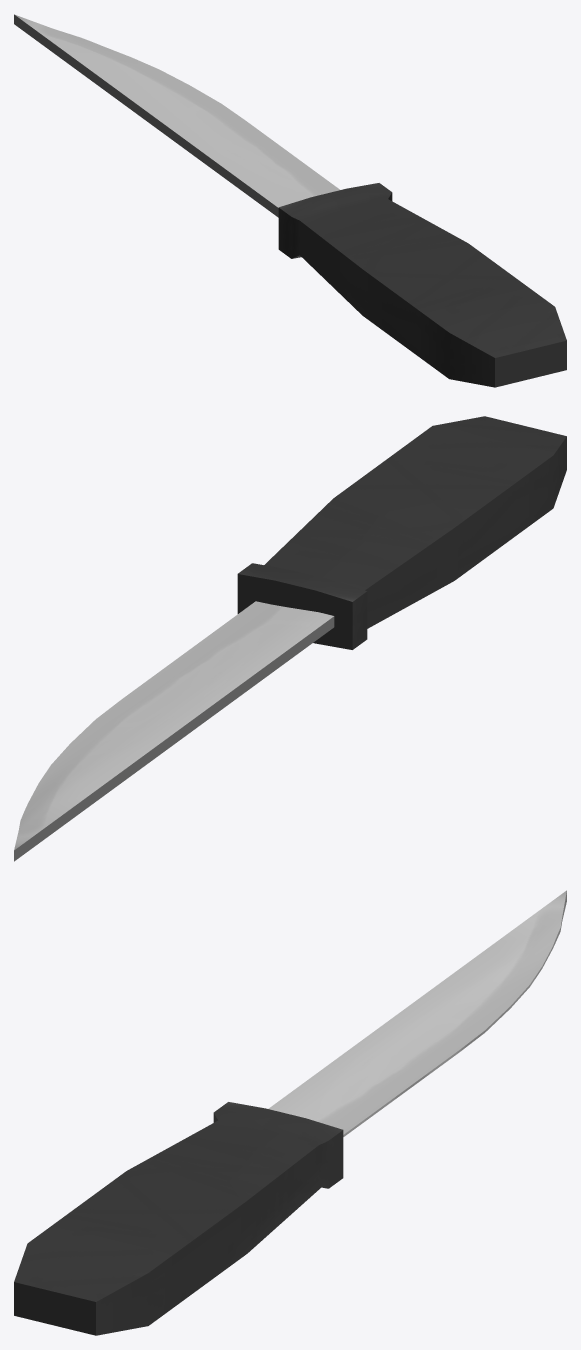
The model's file is knife.fbx.
3 renders of one model, top to bottom at view 1: azimuth 30°, elevation 25°; view 2: azimuth 150°, elevation 25°; view 3: azimuth 330°, elevation 25°, orthographic. The views are drawn at different scales.
Visible parts, largest first — view 1: pCube3; view 2: pCube3; view 3: pCube3.
Boxes of the visible parts, x1=… form: pCube3: x1=14, y1=14, x2=566, y2=387; pCube3: x1=14, y1=416, x2=566, y2=861; pCube3: x1=14, y1=890, x2=566, y2=1335.
Bounding box in the file's own units: 1.3 × 0.546 × 10.27.
1 material, 1 textured.
